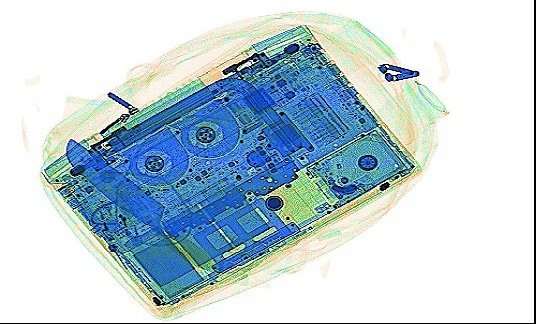knife: (65, 137, 235, 274)
